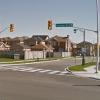Crosswalk: (3, 55, 79, 86)
